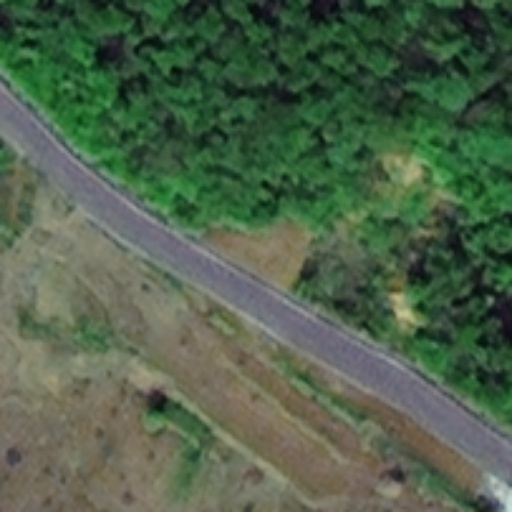landslide: (193, 219, 315, 295)
